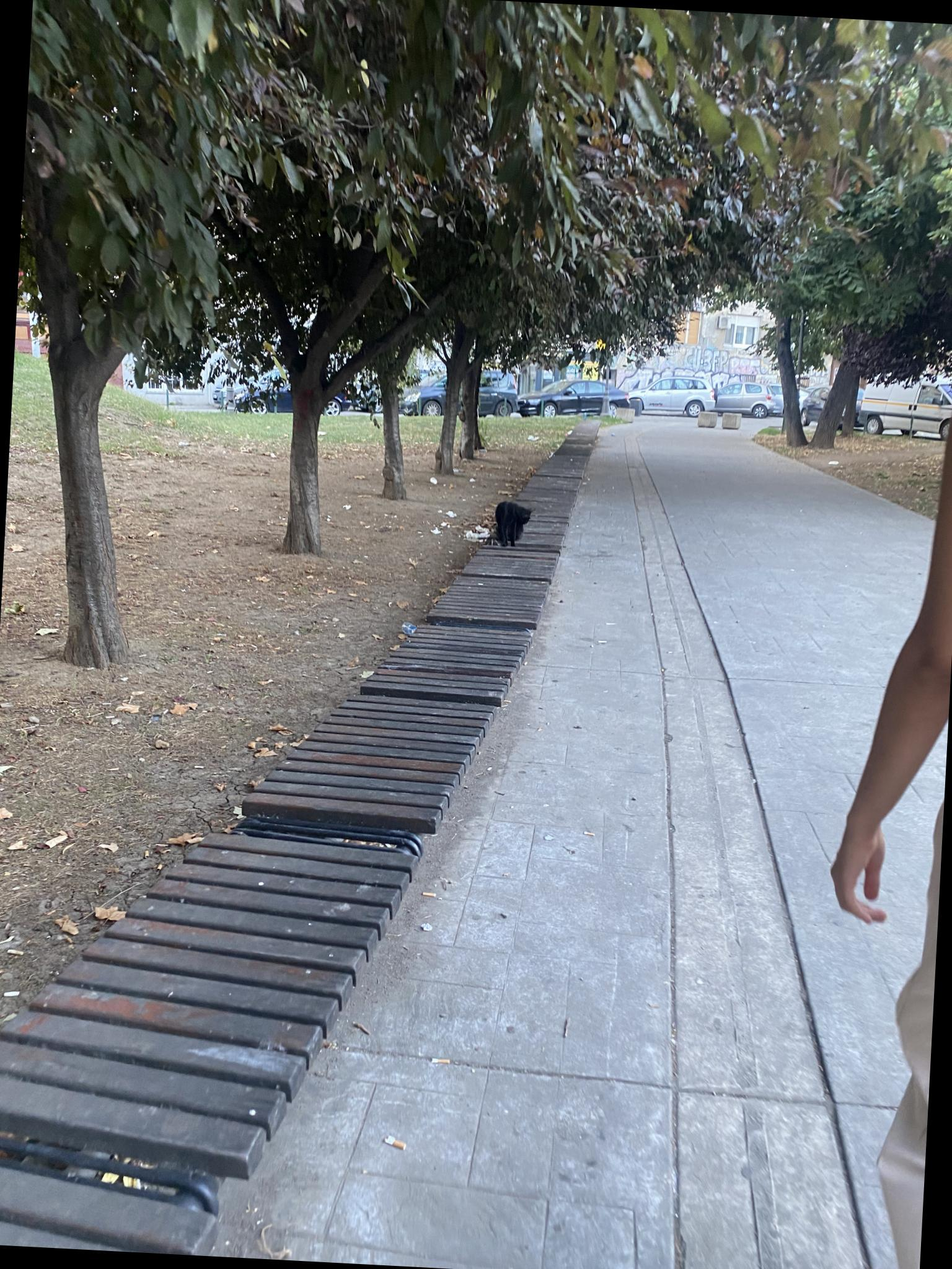macka: (493, 500, 533, 549)
